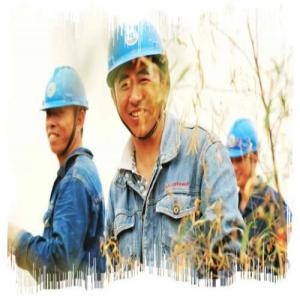blue: (107, 18, 172, 144), (41, 62, 90, 160), (225, 117, 261, 190)
